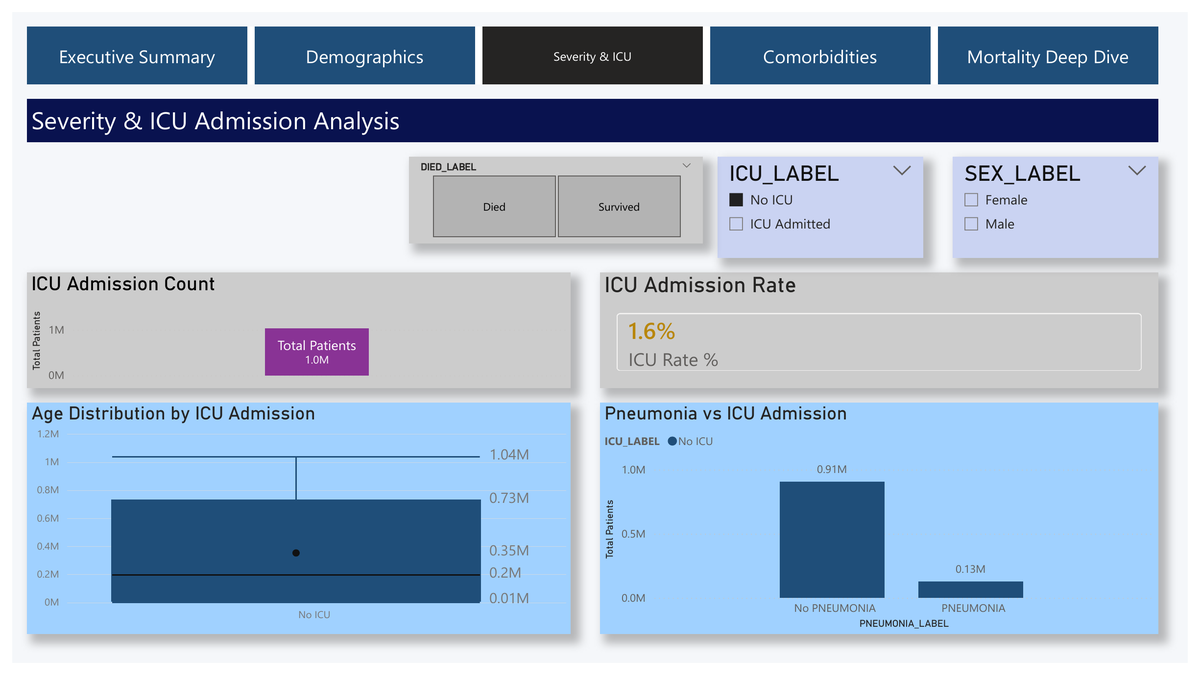

The page's visual inventory and layout, read from the dashboard file:
{"tool":"powerbi","page":{"name":"Severity & ICU","canvas":[1280,720],"ordinal":2},"visuals":[{"type":"textbox","box":[16,96,1232,48],"z":0},{"type":"clusteredColumnChart","title":"ICU Admission Count","fields":{"Category":["Covid Data.ICU_LABEL"],"Y":["_Measures.Total Patients"]},"box":[16,288,592,128],"z":1000},{"type":"cardVisual","title":"ICU Admission Rate","fields":{"Data":["_Measures.ICU Rate %"]},"box":[640,288,608,128],"z":2000},{"type":"clusteredColumnChart","title":"Pneumonia vs ICU Admission","fields":{"Y":["_Measures.Total Patients"],"Category":["Covid Data.PNEUMONIA_LABEL"],"Series":["Covid Data.ICU_LABEL"]},"box":[640,432,608,256],"z":3000},{"type":"slicer","fields":{"Values":["Covid Data.ICU_LABEL"]},"box":[768,160,224,112],"z":4000},{"type":"slicer","fields":{"Values":["Covid Data.SEX_LABEL"]},"box":[1024,160,224,112],"z":5000},{"type":"BoxWhiskerChart1455240051538","title":"Age Distribution by ICU Admission","fields":{"Groups":["Covid Data.ICU_LABEL"],"Samples":["Covid Data.AGE"],"Values":["Sum(Covid Data.AGE)"]},"box":[16,432,592,256],"z":6000},{"type":"pageNavigator","box":[16,16,1232,64],"z":7000},{"type":"slicer","fields":{"Values":["Covid Data.DIED_LABEL"]},"box":[432,160,320,96],"z":8000}]}

Visuals, with their boxes in screenshot pixels (x1, y1, x2, y2), scaled from the page's 1280x720 canvas onto the 1200x675 screenshot:
textbox: left=15, top=90, right=1170, bottom=135
"ICU Admission Count" clusteredColumnChart: left=15, top=270, right=570, bottom=390
"ICU Admission Rate" cardVisual: left=600, top=270, right=1170, bottom=390
"Pneumonia vs ICU Admission" clusteredColumnChart: left=600, top=405, right=1170, bottom=645
slicer - Covid Data.ICU_LABEL: left=720, top=150, right=930, bottom=255
slicer - Covid Data.SEX_LABEL: left=960, top=150, right=1170, bottom=255
"Age Distribution by ICU Admission" BoxWhiskerChart1455240051538: left=15, top=405, right=570, bottom=645
pageNavigator: left=15, top=15, right=1170, bottom=75
slicer - Covid Data.DIED_LABEL: left=405, top=150, right=705, bottom=240
